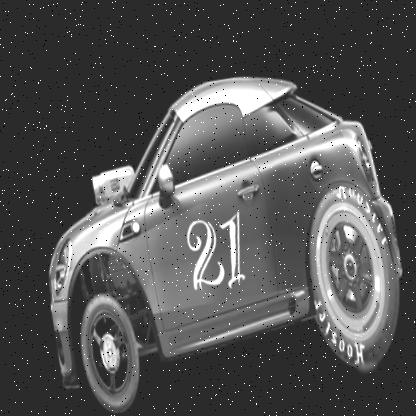Car: (20, 56, 415, 415)
